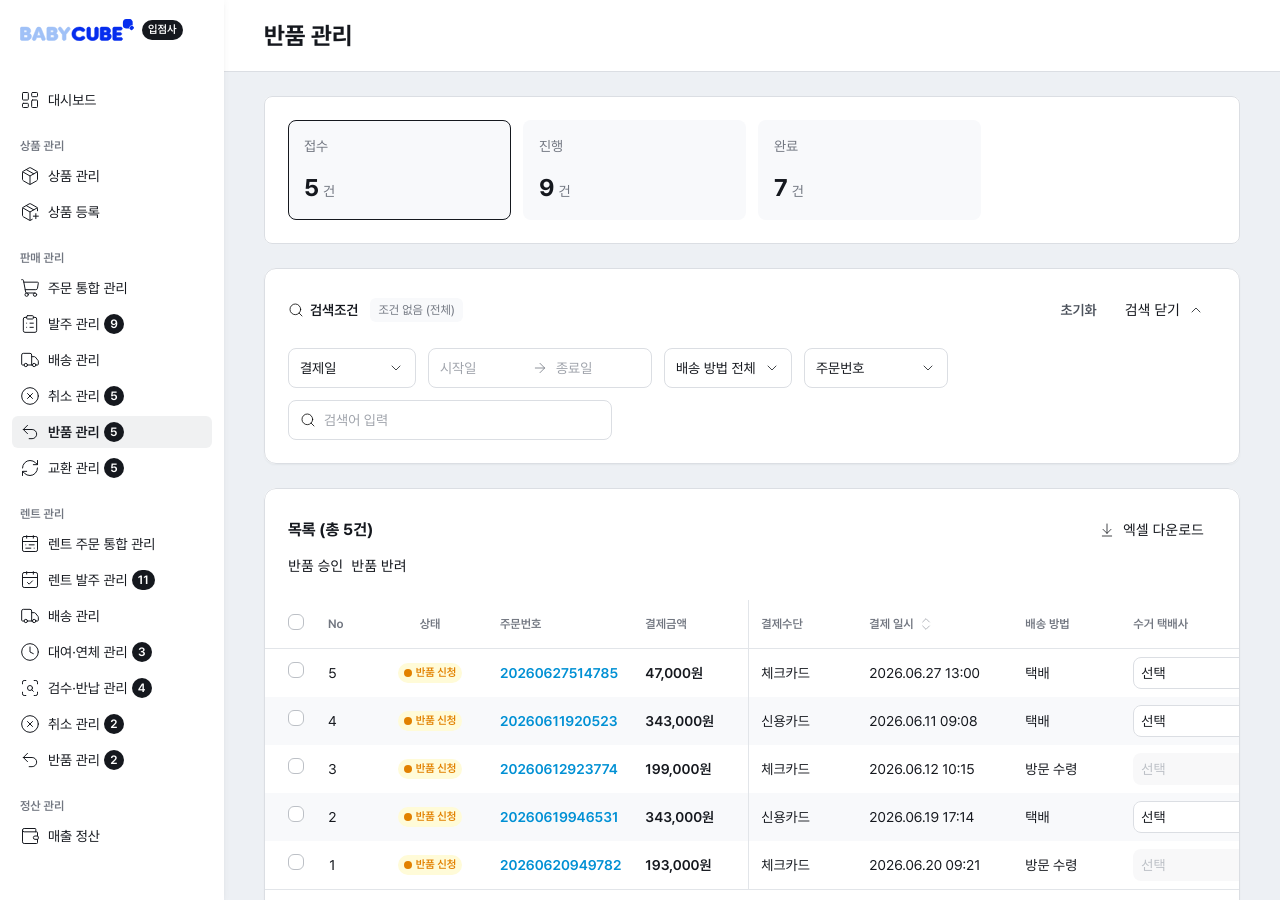
Test: SaleReturnPage — 반품 관리 › [반품 반려](접수 단계 · 개발 요청 20번) → 사유 필수 창 — 비면 막고, 적으면 원본 알림
Click the checkbox named "20260627514785 흡착 식판 세트 선택". click: (296, 670)
box: [288,662,304,678]
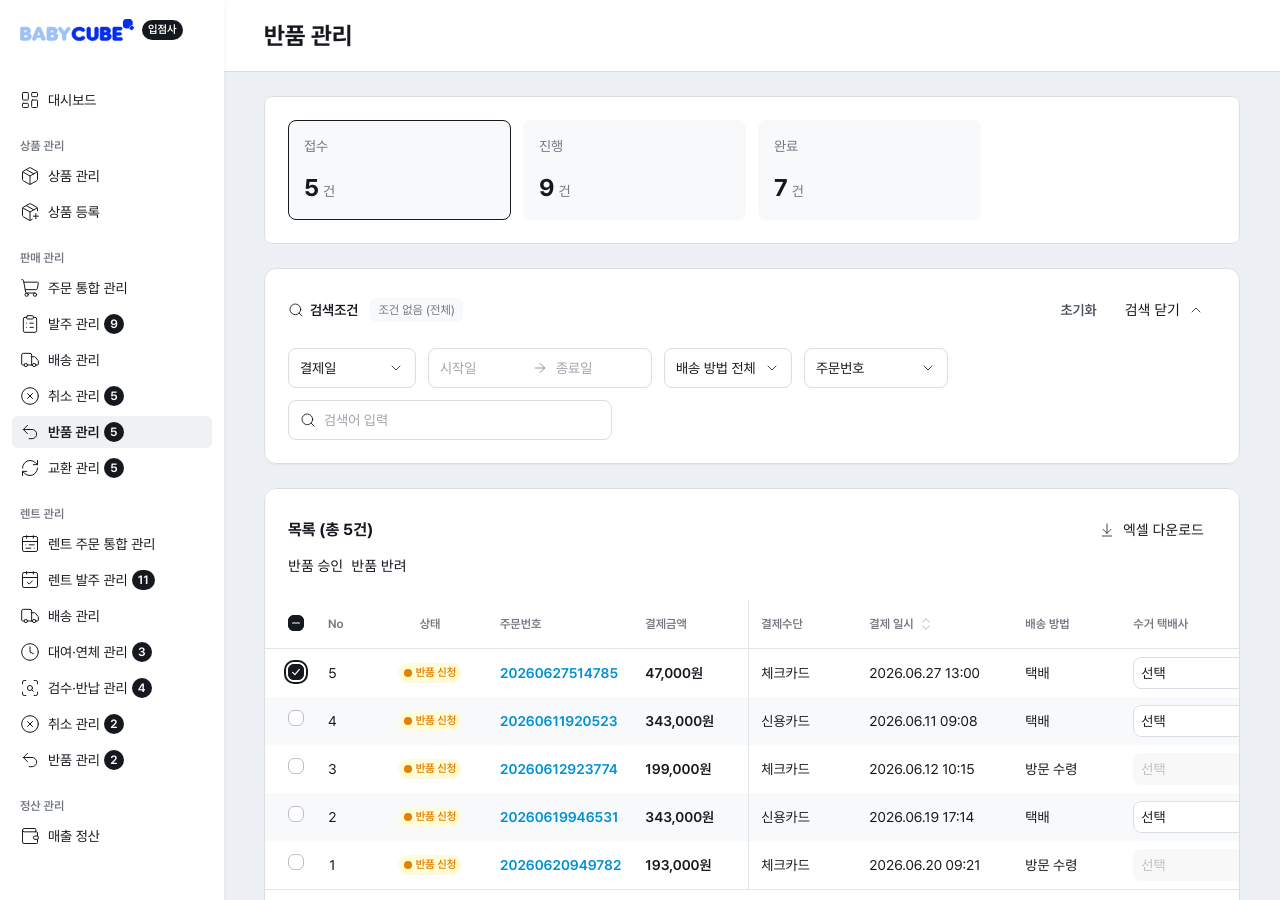
Click the button "반품 반려". click: (379, 566)
box: [351,556,407,576]
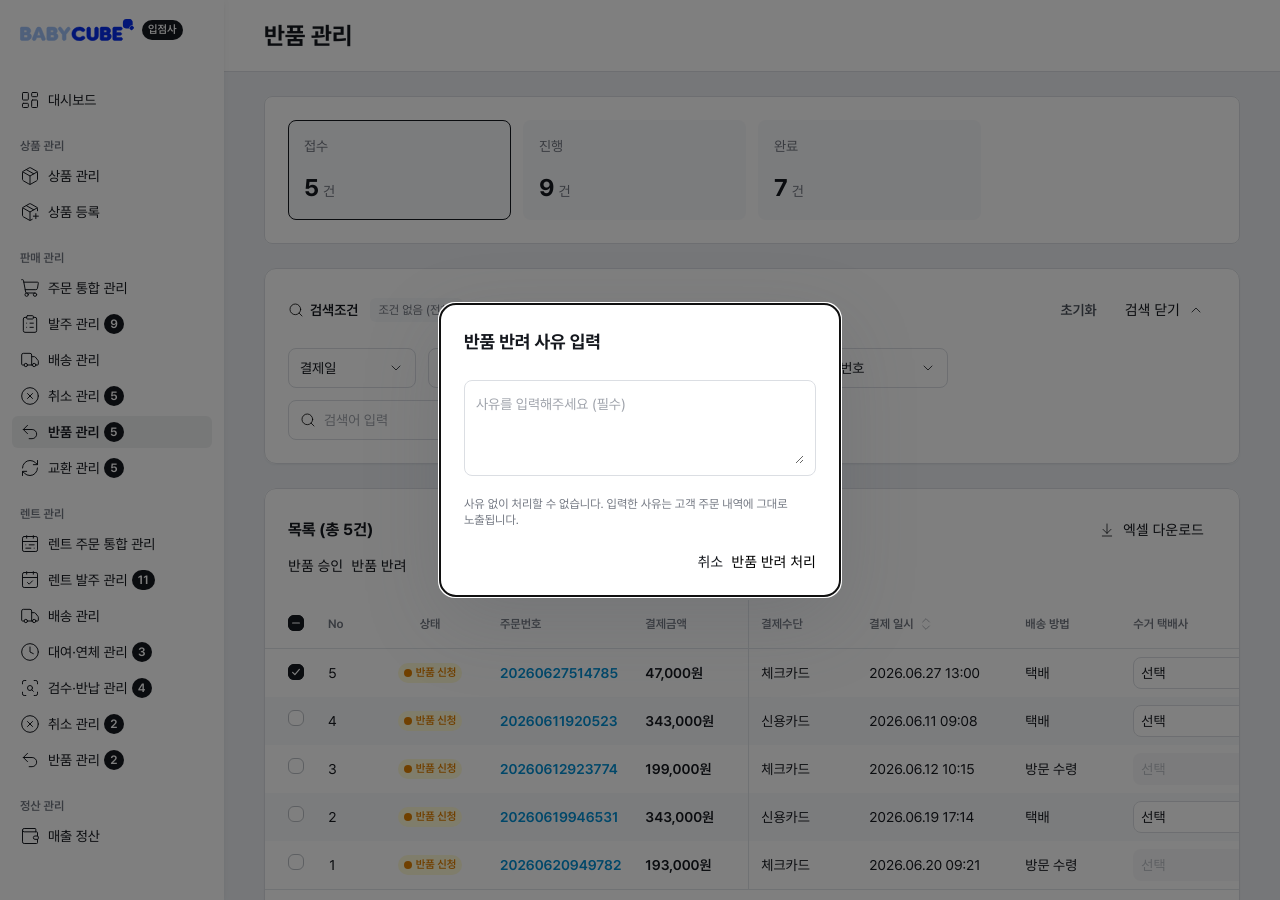
Click the button "반품 반려 처리". click: (774, 562)
box: [731,552,816,572]
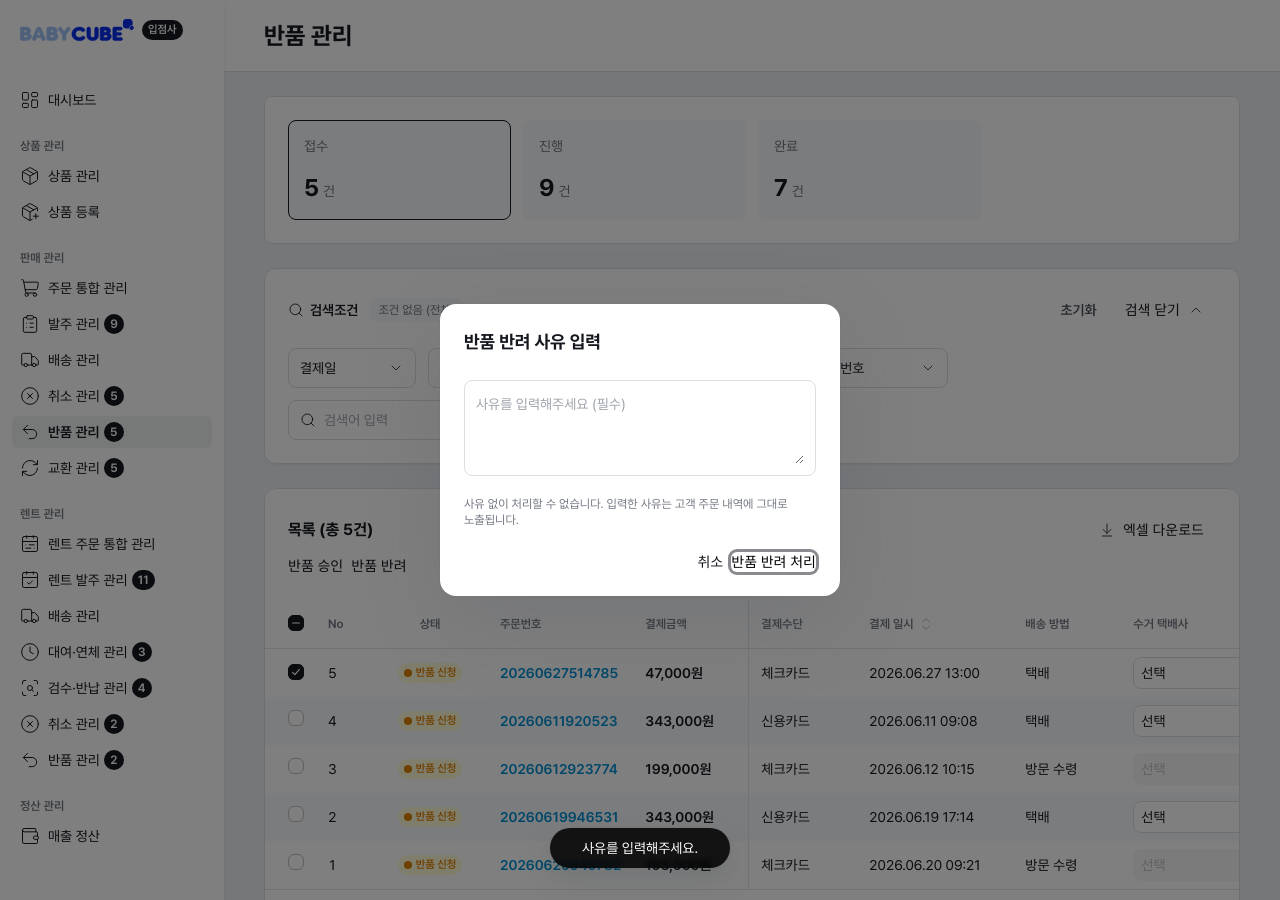
expect the text "사유를 입력해주세요." is shown: met, box [550,828,730,868]
Type "사용 흔적 확인" into the text box. click: (640, 428)
box: [476,392,804,464]
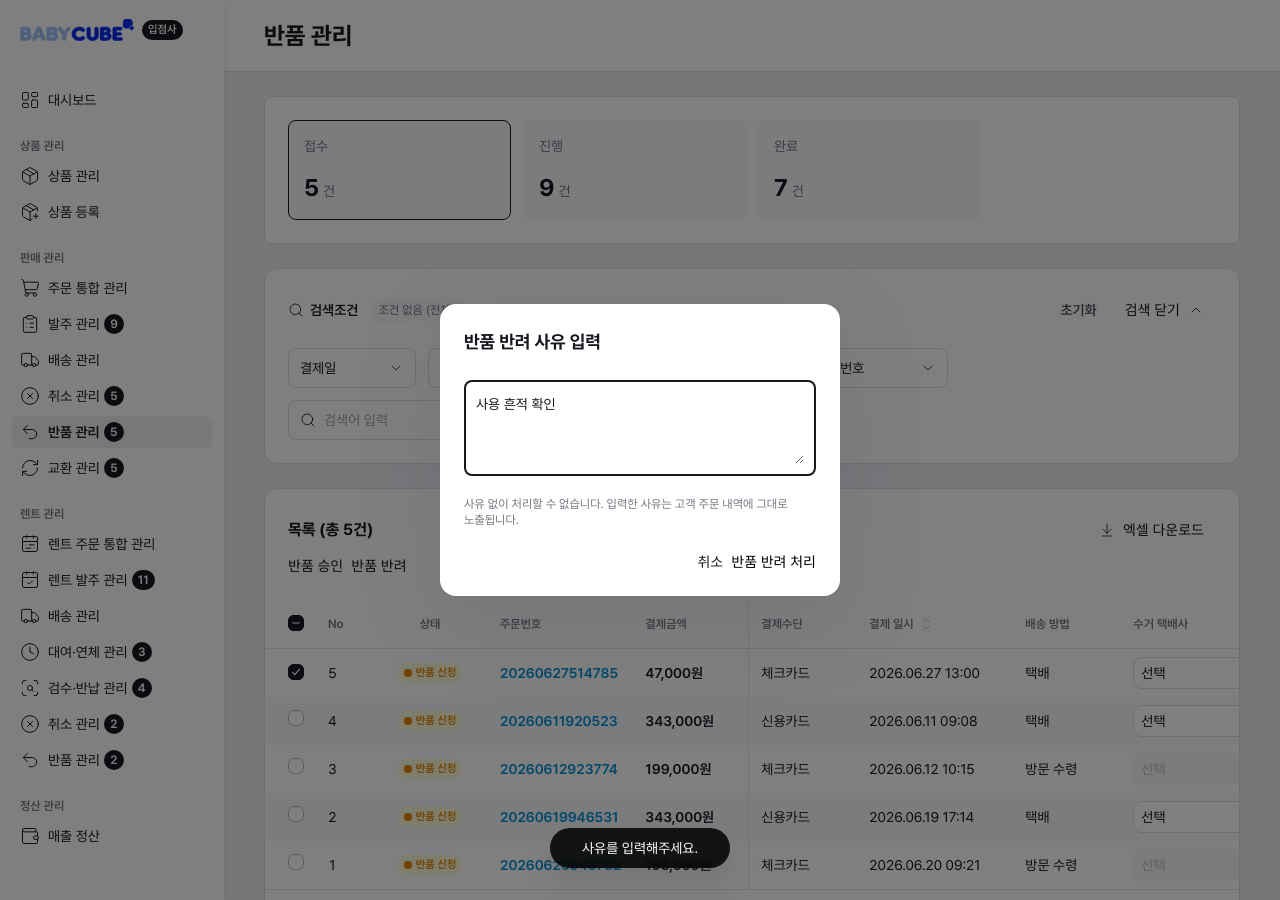
Click the button "반품 반려 처리". click: (774, 562)
box: [731,552,816,572]
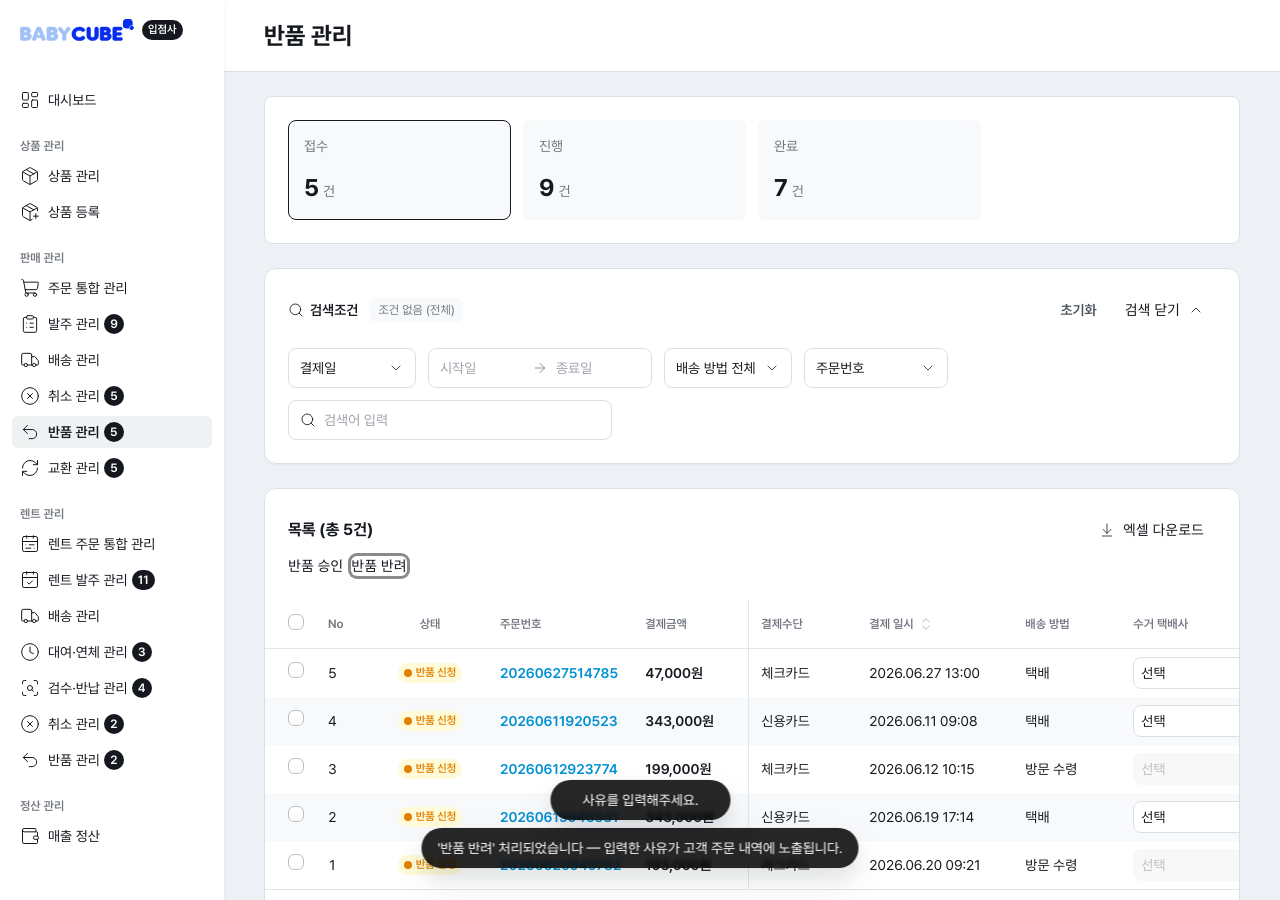
expect the text "'반품 반려' 처리되었습니다 — 입력한 사유가 고객 주문 내역에 노출됩니다." is shown: met, box [421,828,858,868]
